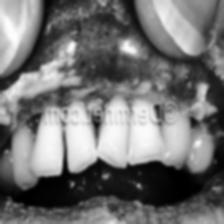Toxin: (1, 54, 82, 130)
